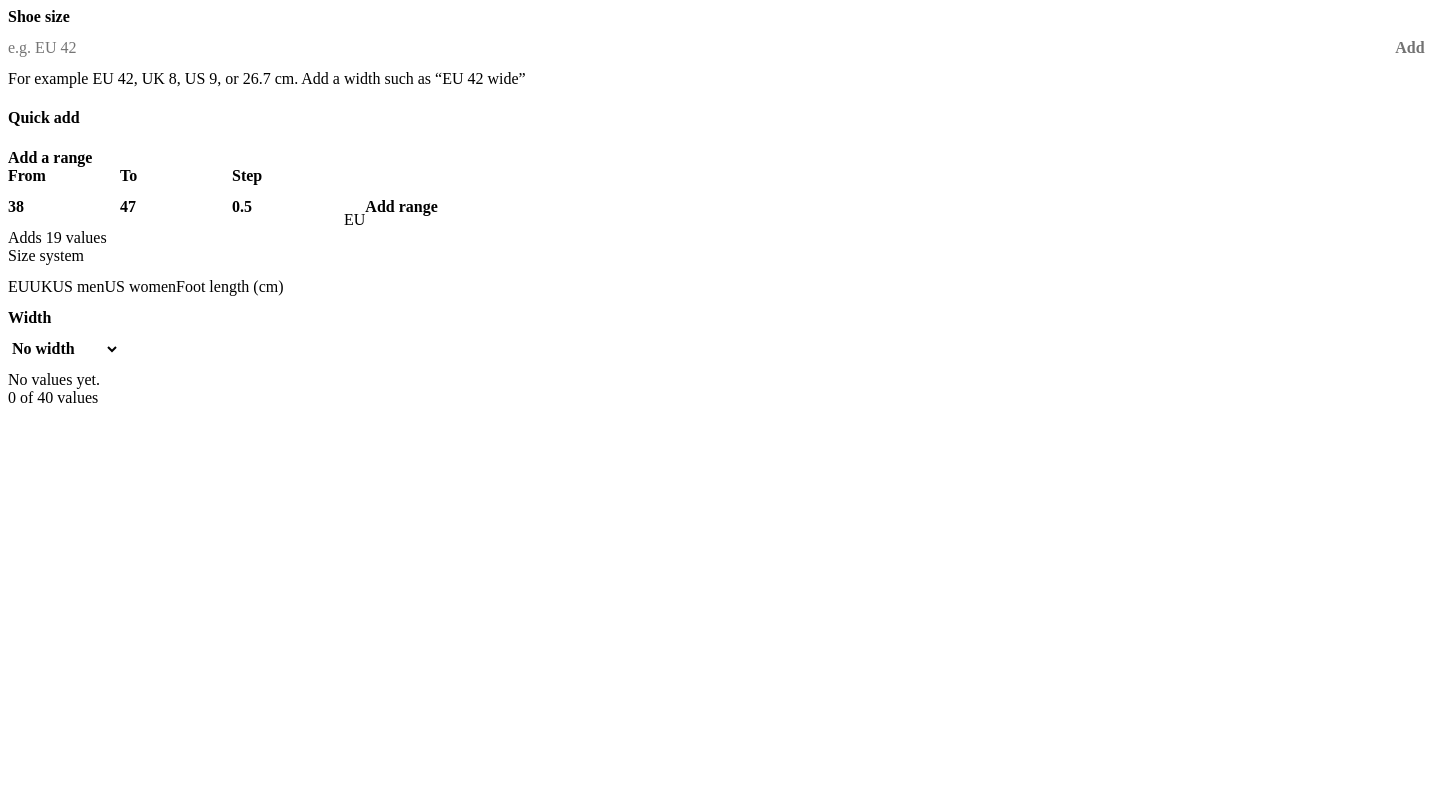
Scenario: shoe › EU 38 to 47 in half steps fills 19 sizes at once
The width and height of the screenshot is (1440, 810).
Click the button "Add range".
click(402, 206)  # box x1=365 y1=184 x2=438 y2=228
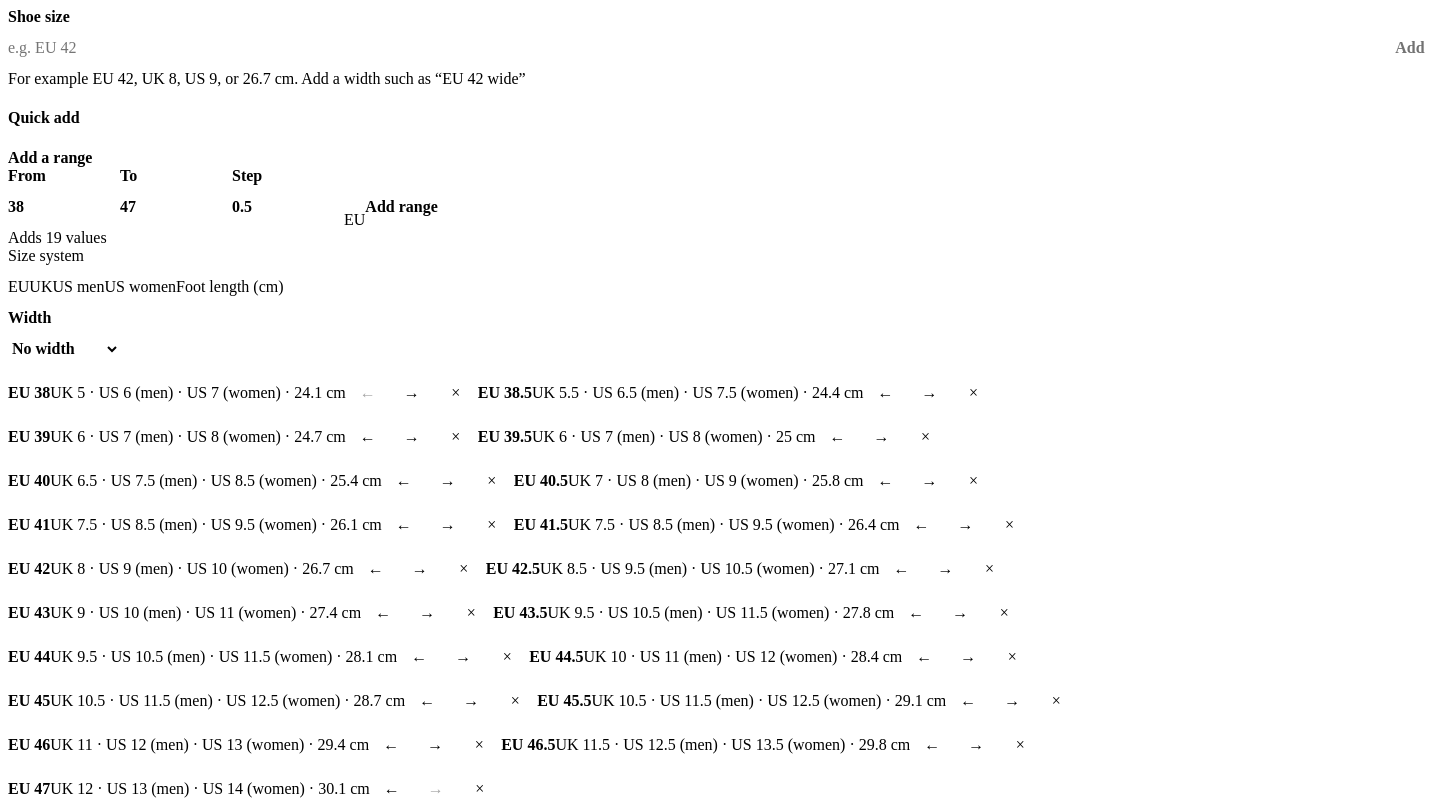
Result: the number of list items with test id "scale-chip" is 19
Result: the text "EU 38" is shown at x1=8 y1=384 x2=50 y2=402
Result: the text "EU 47" is shown at x1=8 y1=780 x2=50 y2=798
